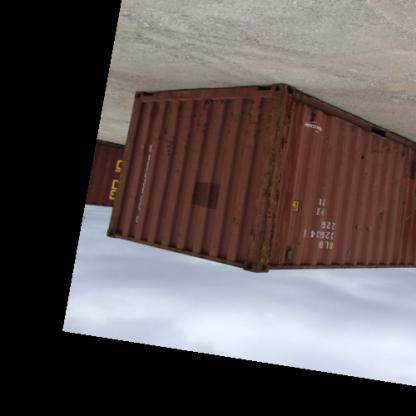Damage: (252, 97, 298, 267), (355, 136, 393, 168), (155, 132, 179, 170), (196, 102, 218, 140), (343, 220, 375, 239), (304, 110, 326, 136), (376, 204, 394, 231), (398, 144, 412, 170)
